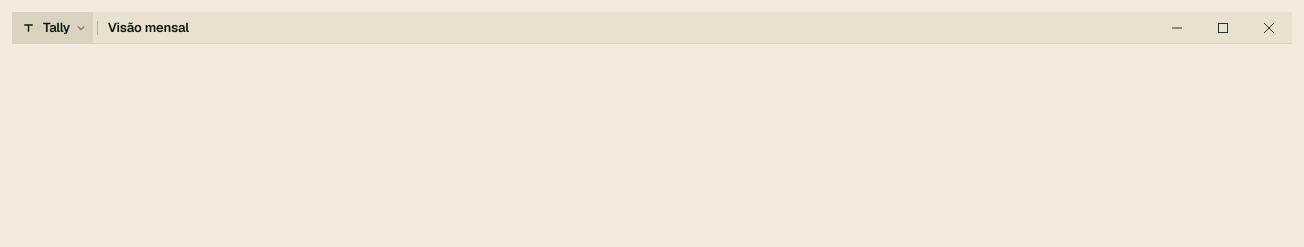
Test: TitleBar — alternador de tema › rotula o item com o tema de destino, não com o atual
The width and height of the screenshot is (1304, 247).
Step 1. Click the button with aria-label "Menu do aplicativo" → (52, 28), box [12,12,93,44]
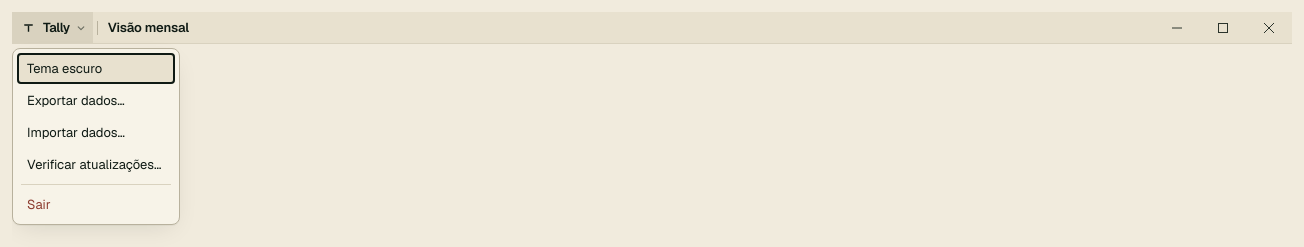
Now the menu item "Tema escuro" is shown, box [17,52,175,84]
